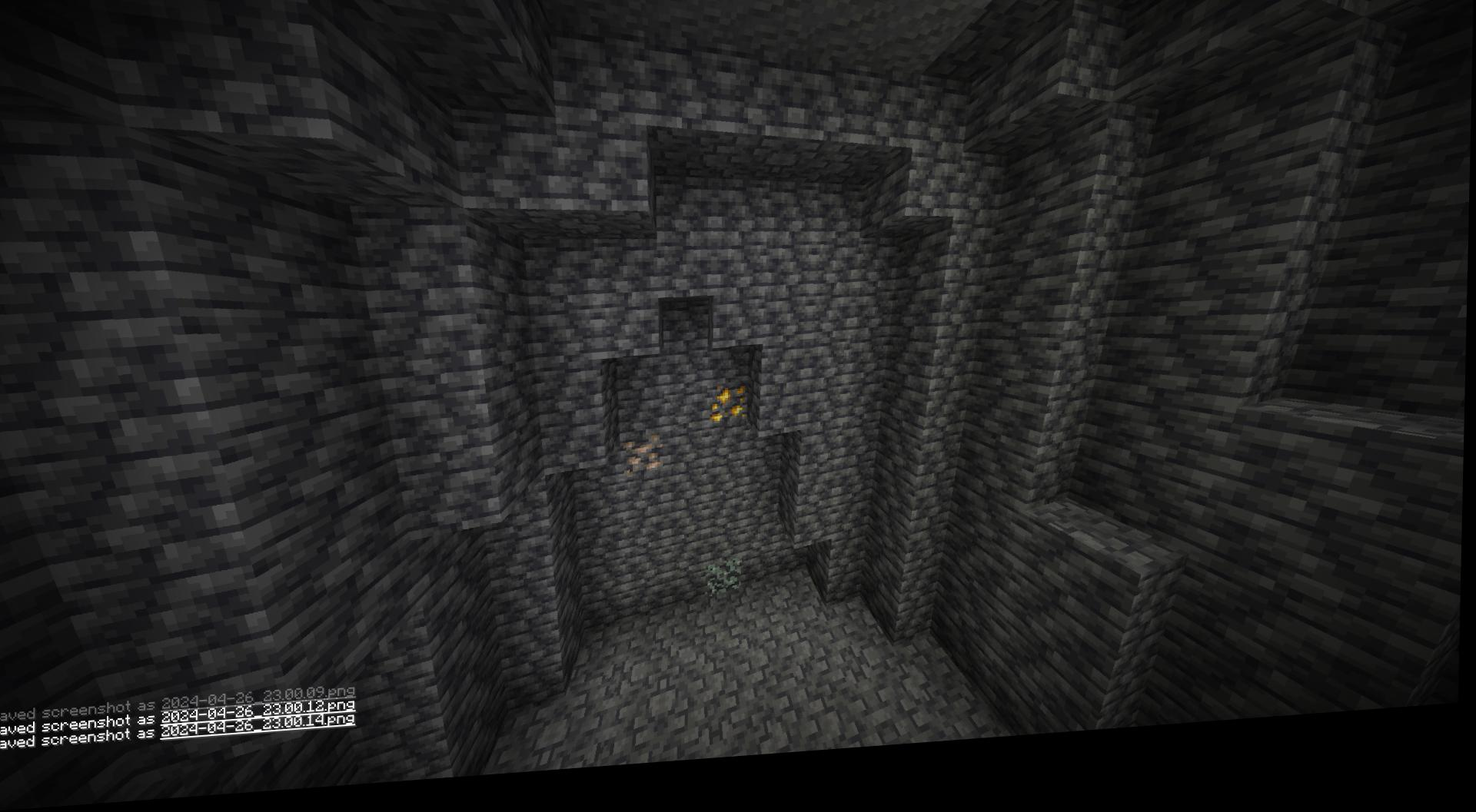gold ore: (714, 392, 753, 434)
iron ore: (621, 442, 667, 488)
